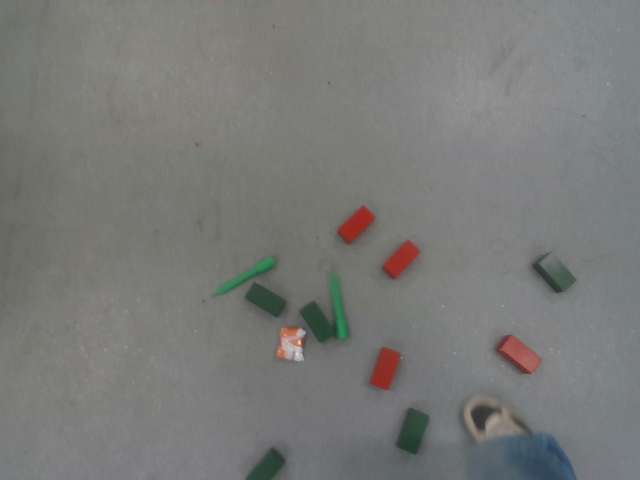Probe: (207, 253, 277, 298), (329, 269, 351, 340)
